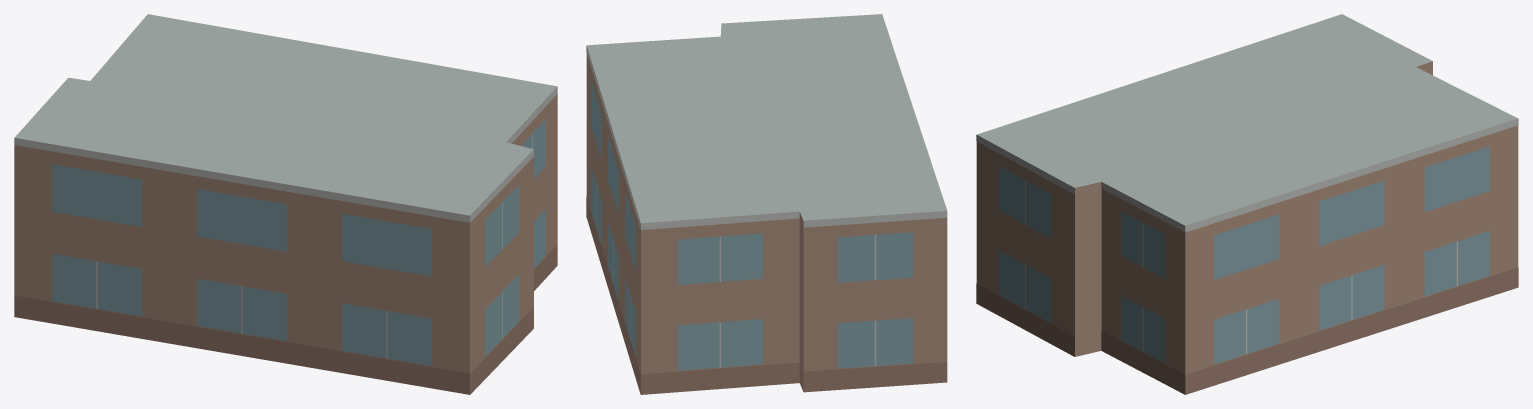
File: survey-upis-33021137.glb
3 views of the same model, side by side, from view 1: azimuth 30°, elevation 25°; view 2: azimuth 150°, elevation 25°; view 3: azimuth 270°, elevation 25° (orthographic). The views are drawn at different scales.
Parts seen in each view (by area): view 1: survey-upis-33021137.tmp; view 2: survey-upis-33021137.tmp; view 3: survey-upis-33021137.tmp.
Part boxes in pixels (x1,y1,x2,y2): survey-upis-33021137.tmp: (14, 14, 557, 394); survey-upis-33021137.tmp: (586, 14, 947, 394); survey-upis-33021137.tmp: (976, 14, 1518, 394).
Bounding box in the file's own units: 16.4 × 6.1 × 17.73.
